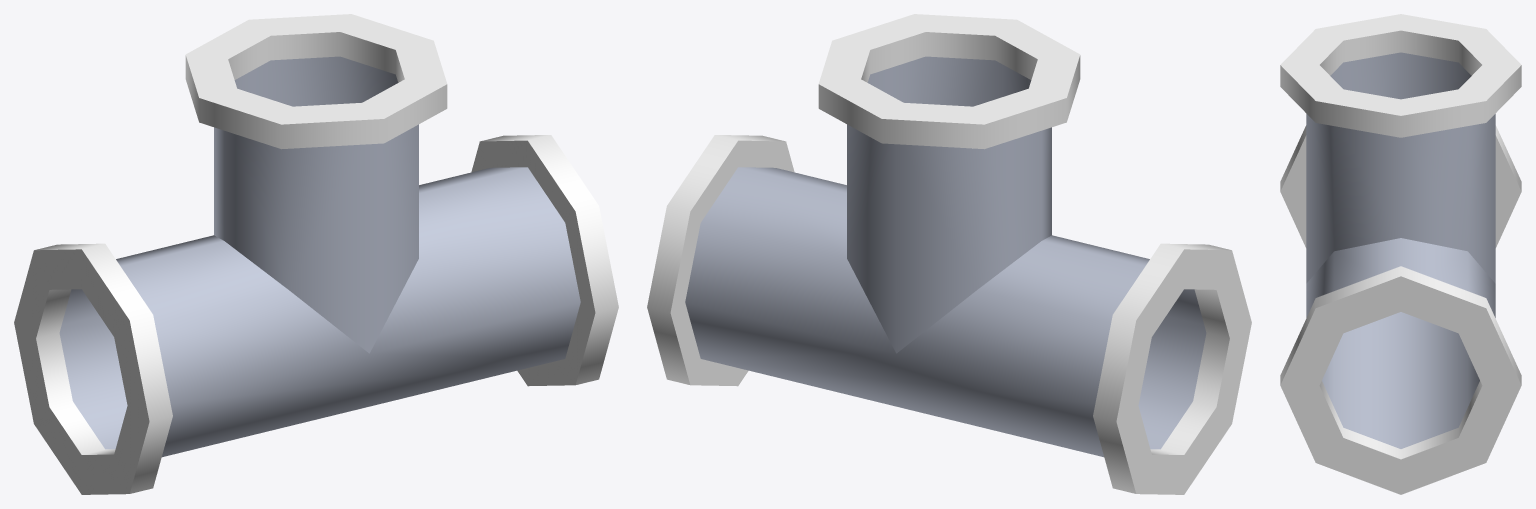
Rendered from pipe-glass-large-side.glb.
3 views of the same model, side by side, from view 1: azimuth 30°, elevation 25°; view 2: azimuth 150°, elevation 25°; view 3: azimuth 270°, elevation 25° (orthographic). The views are drawn at different scales.
Visible parts, largest first — view 1: pipe-glass-large-side; view 2: pipe-glass-large-side; view 3: pipe-glass-large-side.
Boxes of the visible parts, x1,y1,x2,y2 form: pipe-glass-large-side: (14,14,618,494); pipe-glass-large-side: (647,14,1251,494); pipe-glass-large-side: (1280,14,1521,494).
Size of the model in its own units: 2 by 1.5 by 1.
